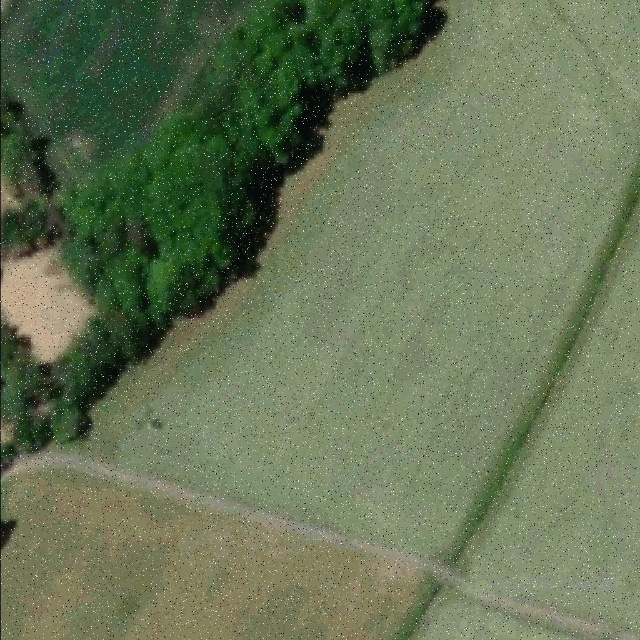vegetation: (0, 0, 435, 467)
